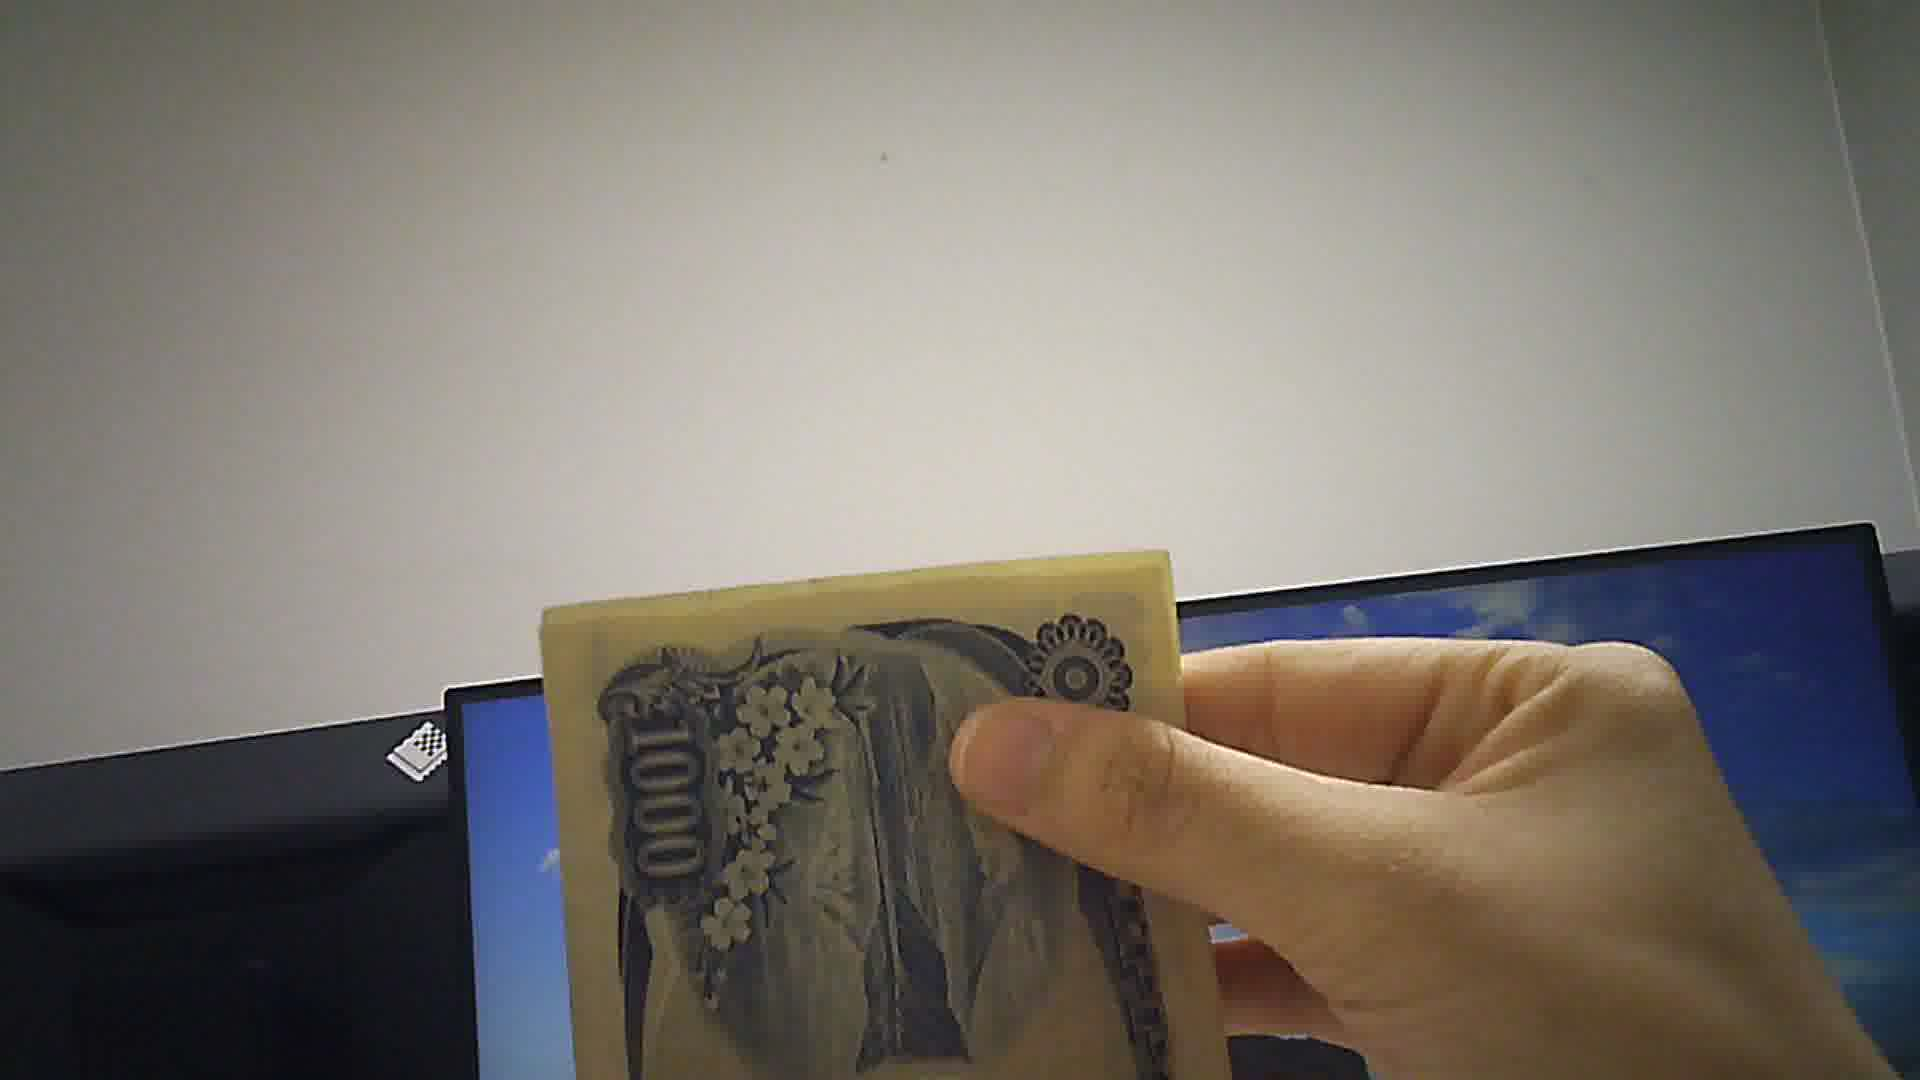1,000 Yen: (534, 574, 1220, 1079)
